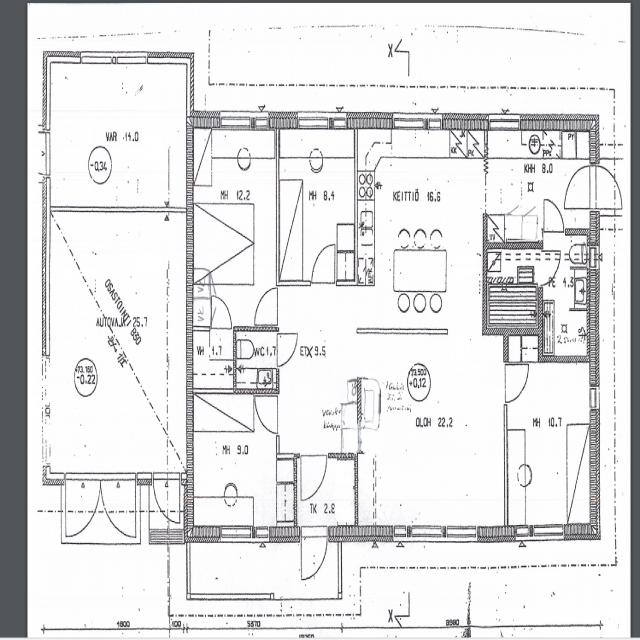door: (300, 528, 329, 583), (299, 451, 329, 504), (563, 161, 593, 211), (592, 163, 623, 210), (252, 282, 281, 330), (309, 238, 337, 286), (503, 360, 531, 406), (253, 392, 281, 436), (151, 474, 174, 522), (540, 194, 566, 236), (275, 328, 300, 368), (210, 294, 234, 331), (538, 250, 562, 285), (363, 137, 383, 172), (253, 110, 271, 132)
window: (295, 110, 341, 133), (528, 523, 566, 546), (218, 111, 255, 134), (394, 112, 431, 134), (444, 526, 479, 544), (489, 112, 521, 131), (40, 126, 51, 179), (80, 51, 112, 66), (118, 52, 148, 66)
zone: (41, 211, 166, 482), (359, 138, 482, 330), (46, 60, 188, 203), (505, 359, 595, 533), (192, 132, 278, 292), (190, 392, 281, 532), (276, 127, 356, 286), (484, 134, 553, 237), (540, 230, 591, 364), (486, 246, 540, 336), (485, 129, 559, 177), (190, 328, 236, 390), (234, 329, 278, 393), (540, 308, 590, 359), (488, 114, 525, 139)
